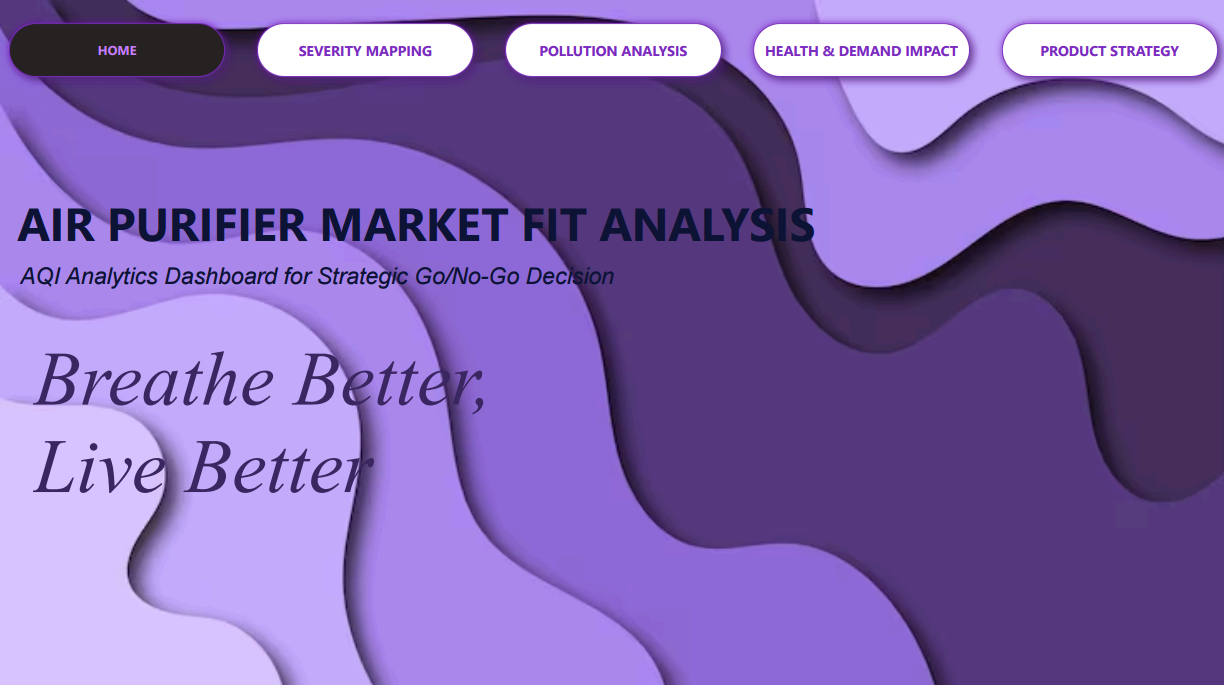

The dashboard page shown, as its layout file describes it:
{"tool":"powerbi","page":{"name":"HOME","canvas":[1280,720],"ordinal":0},"visuals":[{"type":"textbox","box":[0,195.1,869.9,99.4],"z":0},{"type":"textbox","box":[17.5,270,730,50],"z":1000},{"type":"pageNavigator","box":[0,12.5,1280,80],"z":2000},{"type":"textbox","box":[17.2,359.5,523.9,218.4],"z":3000}]}

Visuals, with their boxes in screenshot pixels (x1, y1, x2, y2), scaled from the page's 1280x720 canvas onto the 1224x685 screenshot:
textbox: Rect(0, 186, 832, 280)
textbox: Rect(17, 257, 715, 304)
pageNavigator: Rect(0, 12, 1223, 88)
textbox: Rect(16, 342, 517, 550)
